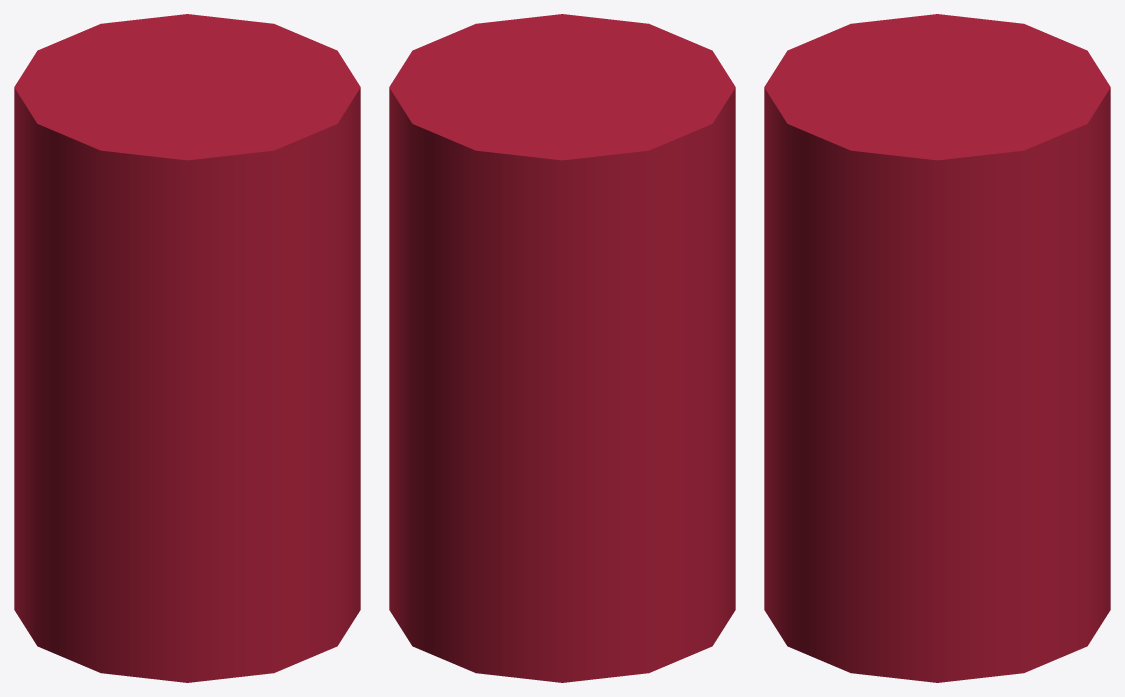
Rendered from Barrel1.fbx.
3 views of the same model, side by side, from view 1: azimuth 30°, elevation 25°; view 2: azimuth 150°, elevation 25°; view 3: azimuth 270°, elevation 25° (orthographic).
Visible parts, largest first — view 1: Circle.002; view 2: Circle.002; view 3: Circle.002.
Part boxes in pixels (<box>): Circle.002: <box>14,14,360,682</box>; Circle.002: <box>389,14,735,682</box>; Circle.002: <box>764,14,1110,682</box>.
Size of the model in its own units: 45.27 by 75.31 by 45.27.
